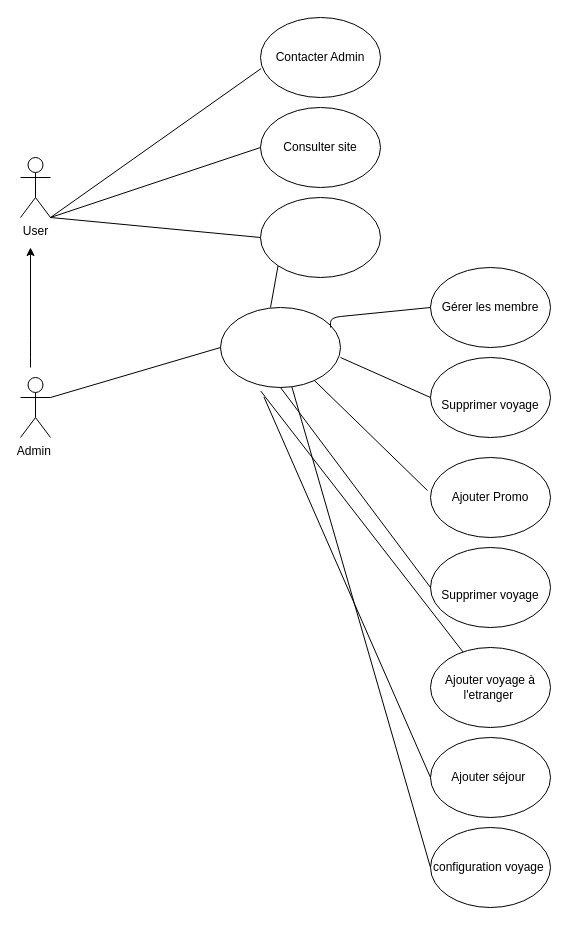
The diagram is 568 pixels wide and 925 high, and some of its shapes have lost their labels. Here are the shapes that lost their labels. From the top down, the box of each, then its label:
(260, 196, 380, 278): Réserver
(220, 306, 340, 388): Authentifier
